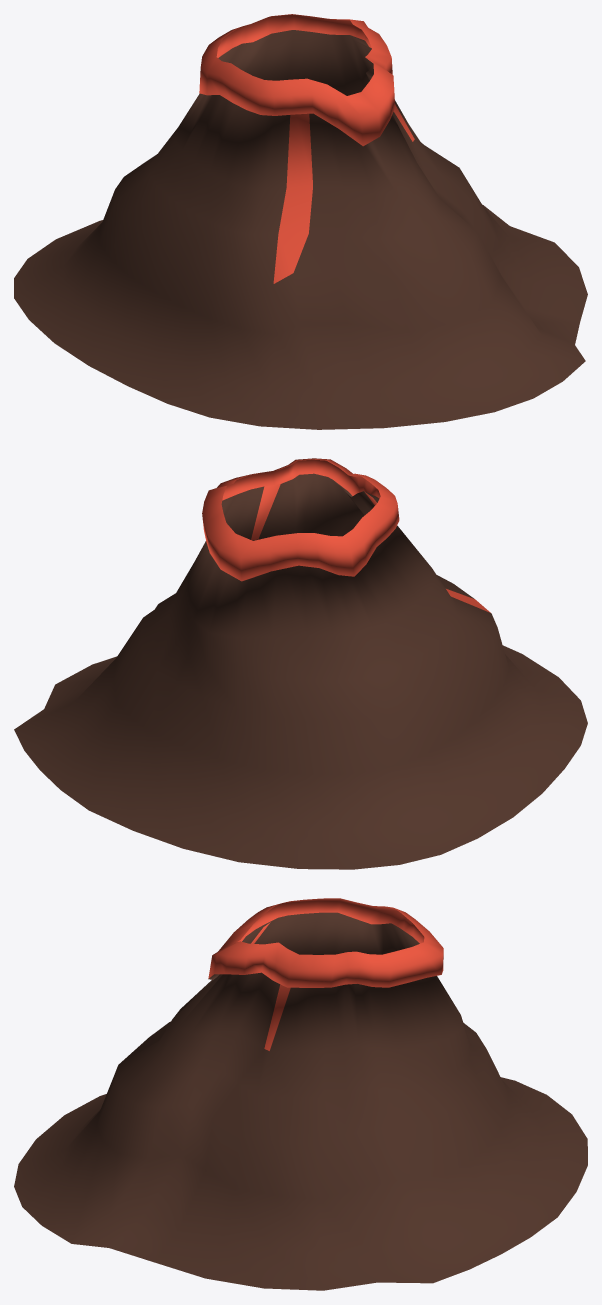
Rendered from Volcano.fbx.
3 views of the same model, one above another, from view 1: azimuth 30°, elevation 25°; view 2: azimuth 150°, elevation 25°; view 3: azimuth 270°, elevation 25° (orthographic). The views are drawn at different scales.
Visible parts, largest first — view 1: Volcano; view 2: Volcano; view 3: Volcano.
Part boxes in pixels (x1,y1,x2,y2): Volcano: (14, 14, 587, 429); Volcano: (14, 458, 587, 869); Volcano: (14, 898, 587, 1290).
Bounding box in the file's own units: 17794 × 9151 × 18991.
